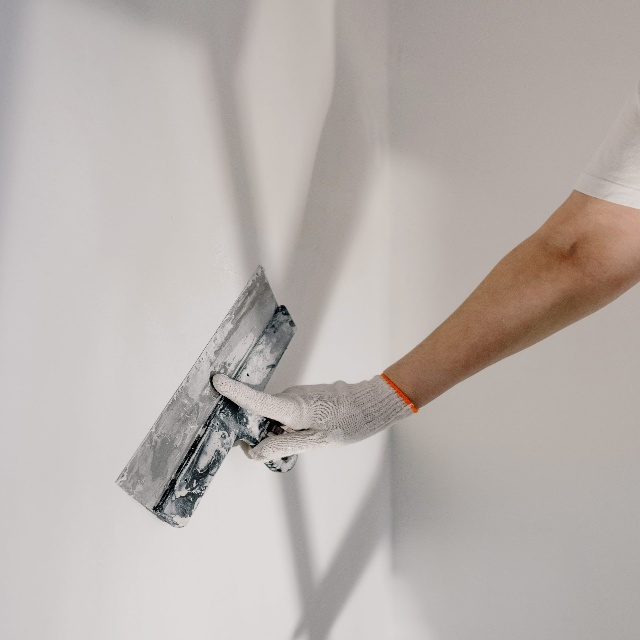Guantes: (210, 364, 421, 464)
